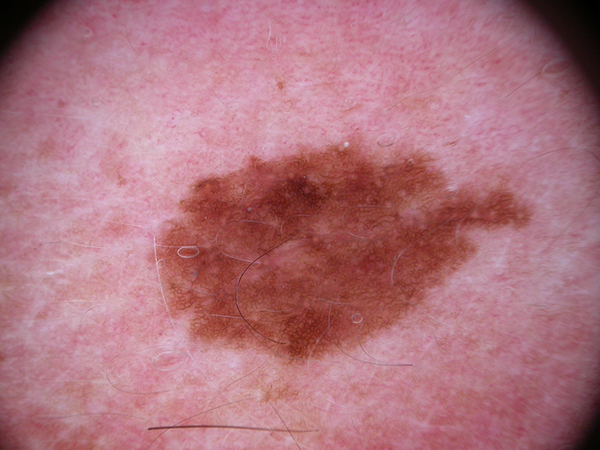Detected Lesion: (149, 136, 539, 366)
